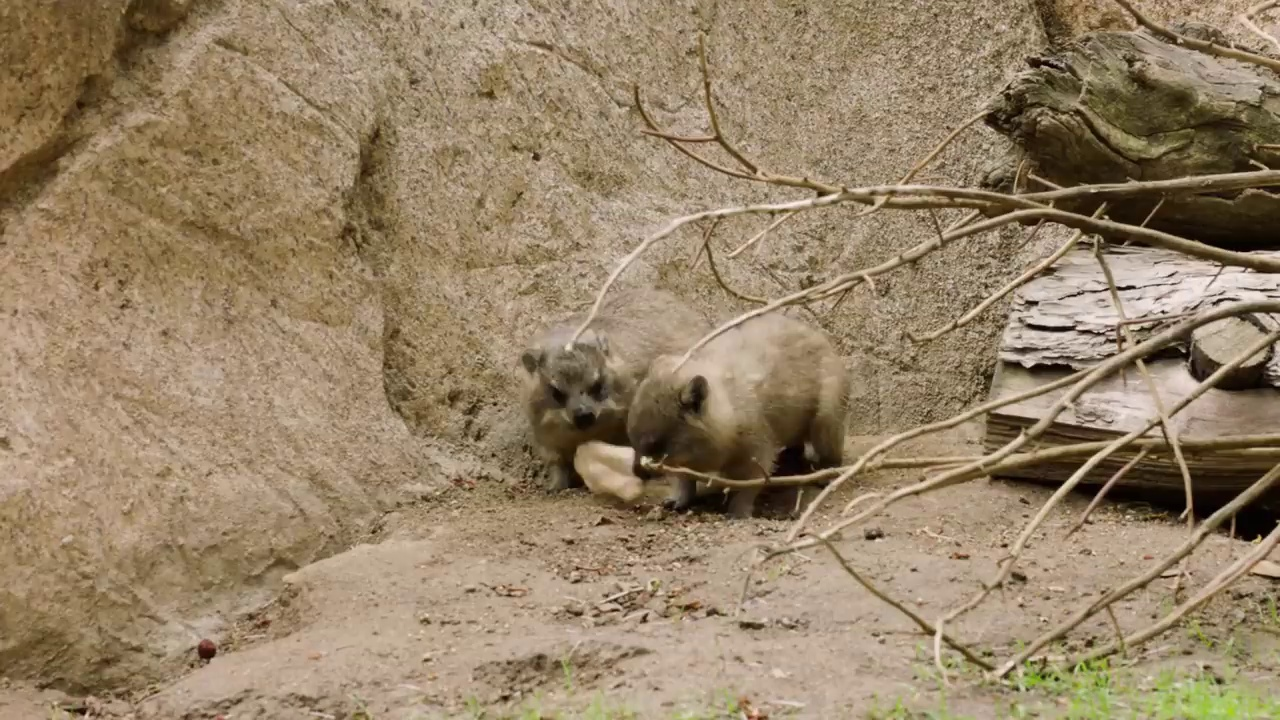Rock Hyrex: (628, 312, 860, 532), (511, 286, 718, 502)
